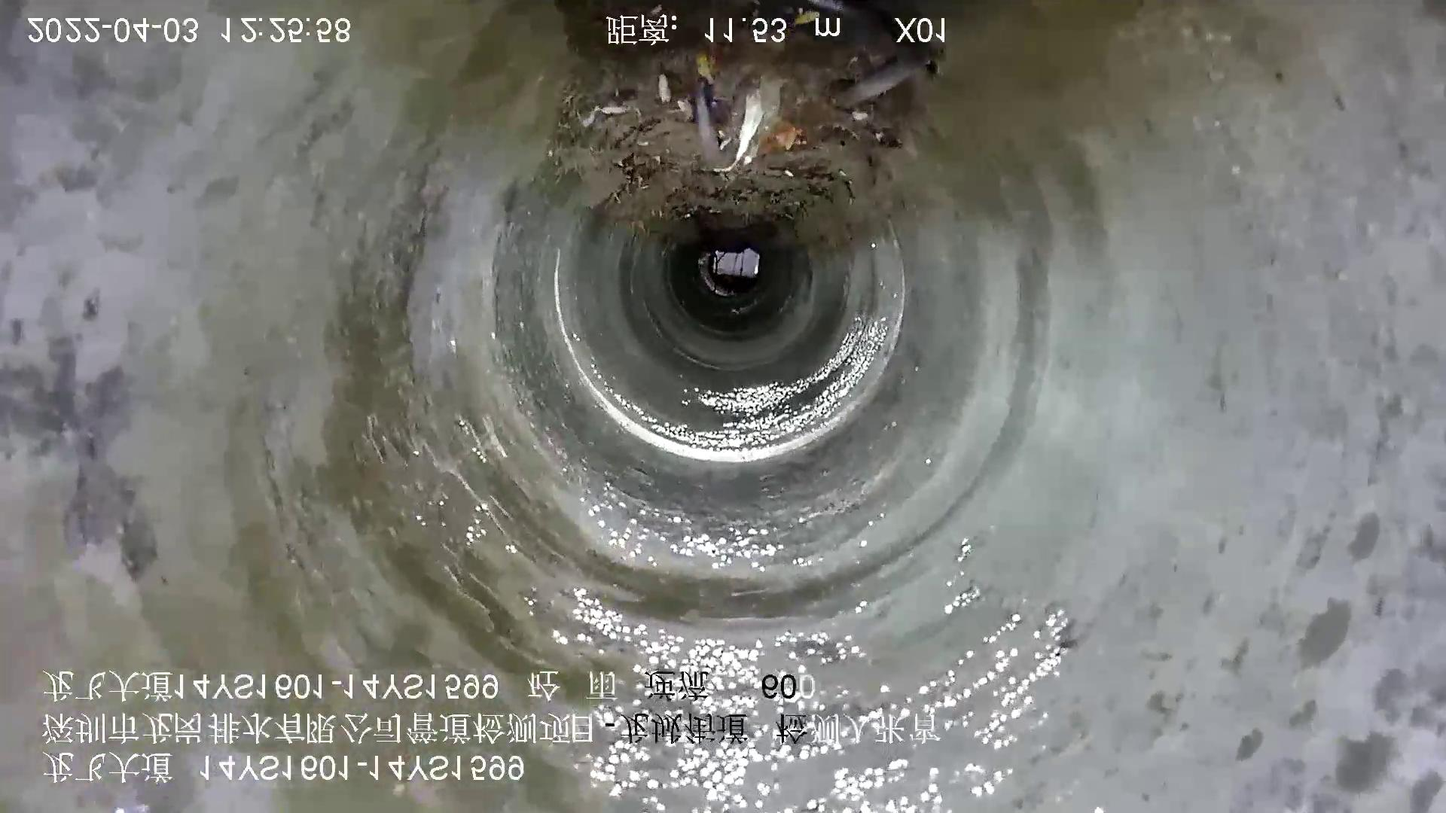CJ: (549, 1, 943, 248)
CKTJ: (543, 206, 917, 466)
